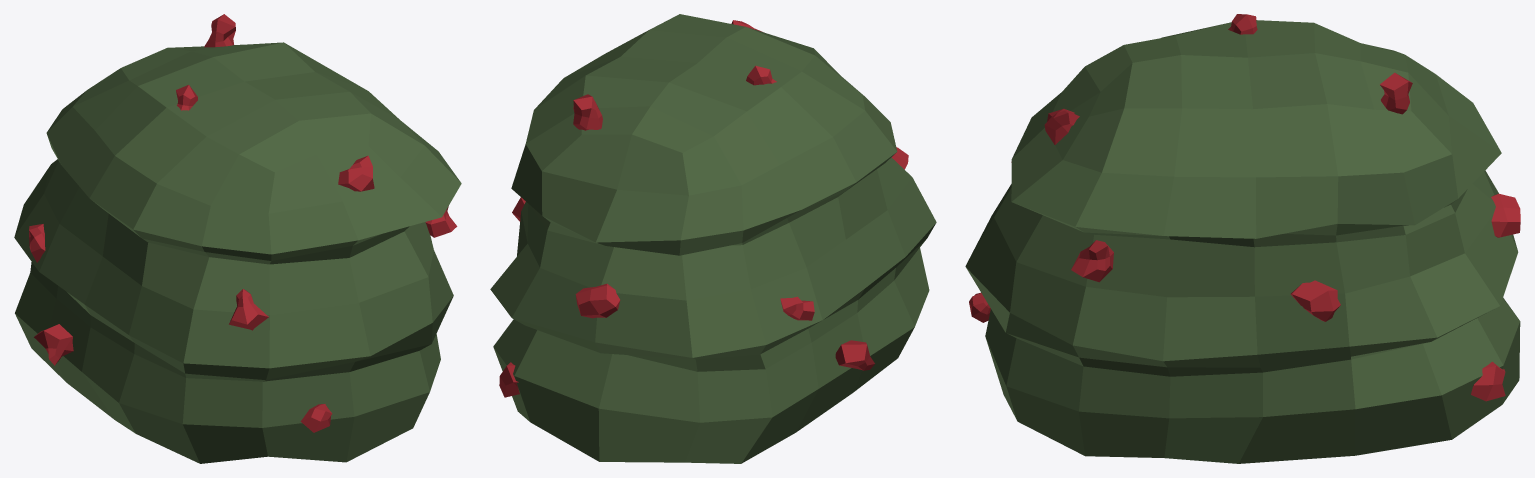
The picture shows the model from 3 angles, left to right: view 1: azimuth 30°, elevation 25°; view 2: azimuth 150°, elevation 25°; view 3: azimuth 270°, elevation 25°; orthographic projection. The views are drawn at different scales.
Parts seen in each view (by area): view 1: BushBerries_1; view 2: BushBerries_1; view 3: BushBerries_1.
Part boxes in pixels (bbox=[...]): BushBerries_1: bbox=[14, 14, 461, 463]; BushBerries_1: bbox=[490, 14, 936, 463]; BushBerries_1: bbox=[965, 14, 1520, 463].
Size of the model in its own units: 1.39 by 1.28 by 1.72.
